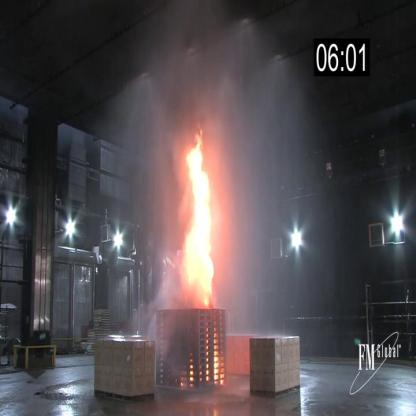fire: (180, 126, 216, 308)
